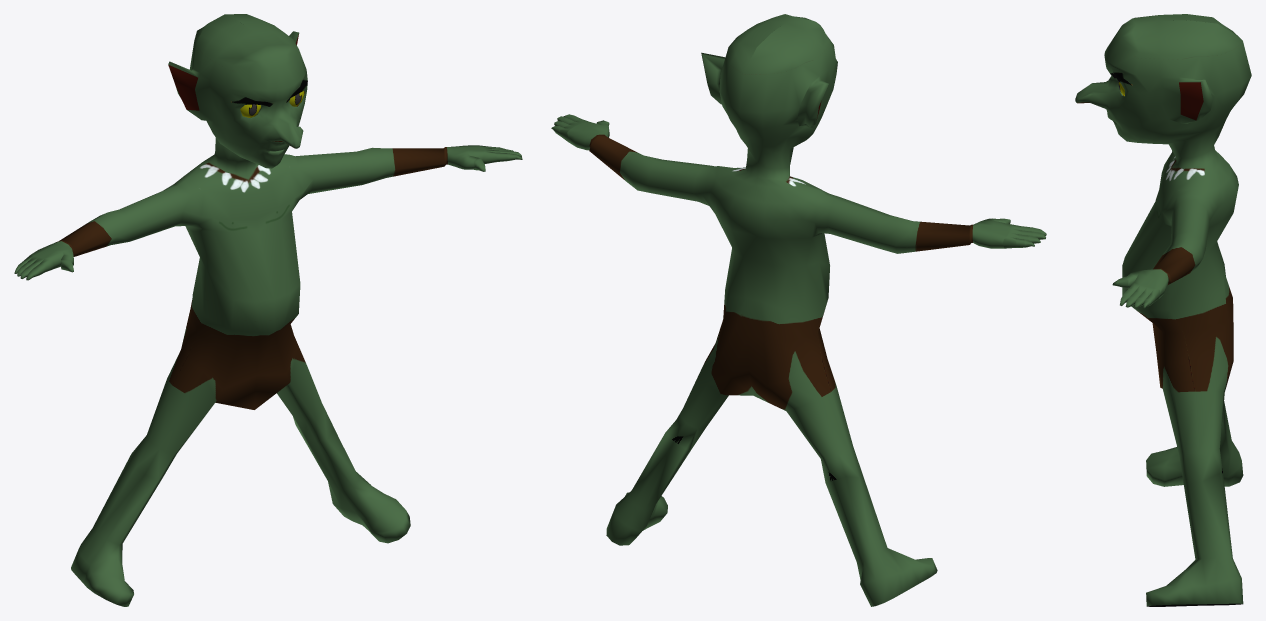
File: Goblin.glb
3 renders of one model, left to right at view 1: azimuth 30°, elevation 25°; view 2: azimuth 150°, elevation 25°; view 3: azimuth 270°, elevation 25°, orthographic. The views are drawn at different scales.
Visible parts, largest first — view 1: GoblinMesh; view 2: GoblinMesh; view 3: GoblinMesh.
Boxes of the visible parts, bbox=[...] form: GoblinMesh: bbox=[14, 14, 522, 606]; GoblinMesh: bbox=[551, 14, 1046, 606]; GoblinMesh: bbox=[1075, 14, 1251, 606].
Bounding box in the file's own units: 2.15 × 2.22 × 0.6747.
Materials: 1 (1 with a texture image).
